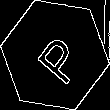P_NW: (26, 25, 84, 85)
